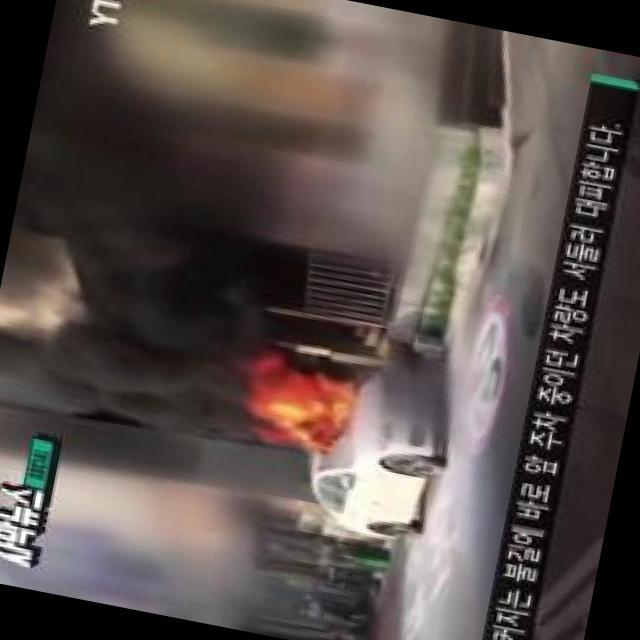Fire: (254, 361, 352, 447)
